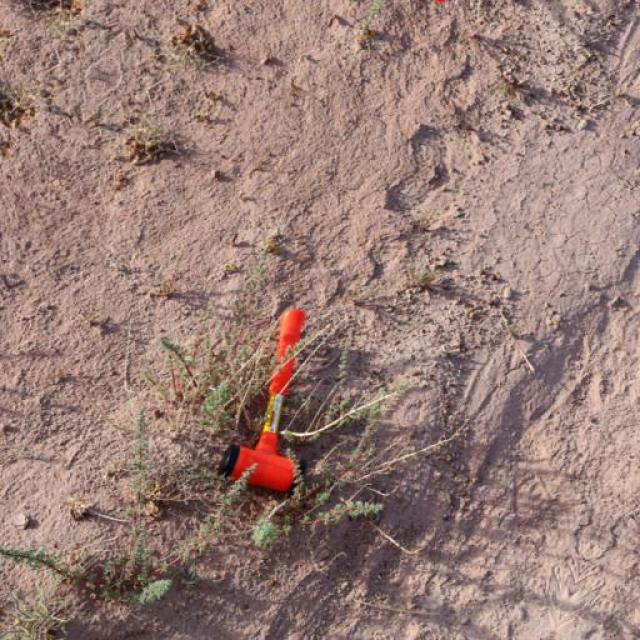mallet: (216, 306, 306, 494)
